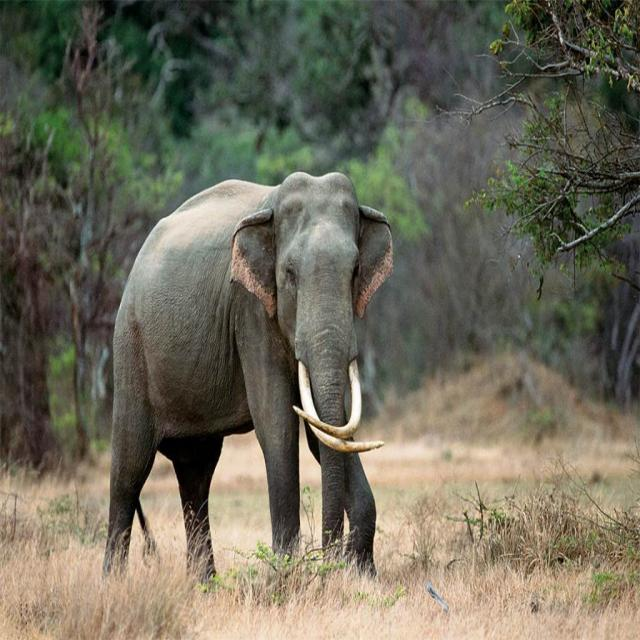Elephant: (101, 169, 394, 591)
